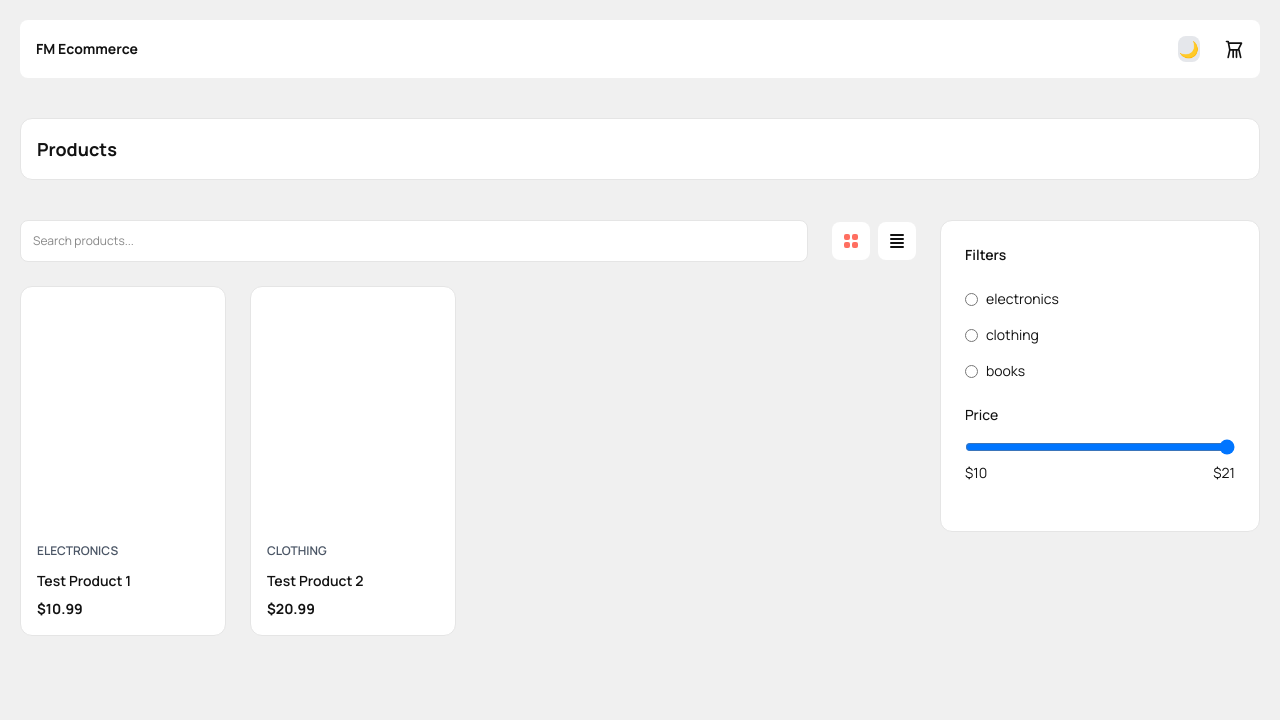
it: Products › filters products by search term
Expected: the heading "Test Product 1" is shown, [37,571,131,590]
In the field with placeholder "Search products...": (414,241) [20,220,808,262], type "Product 1"
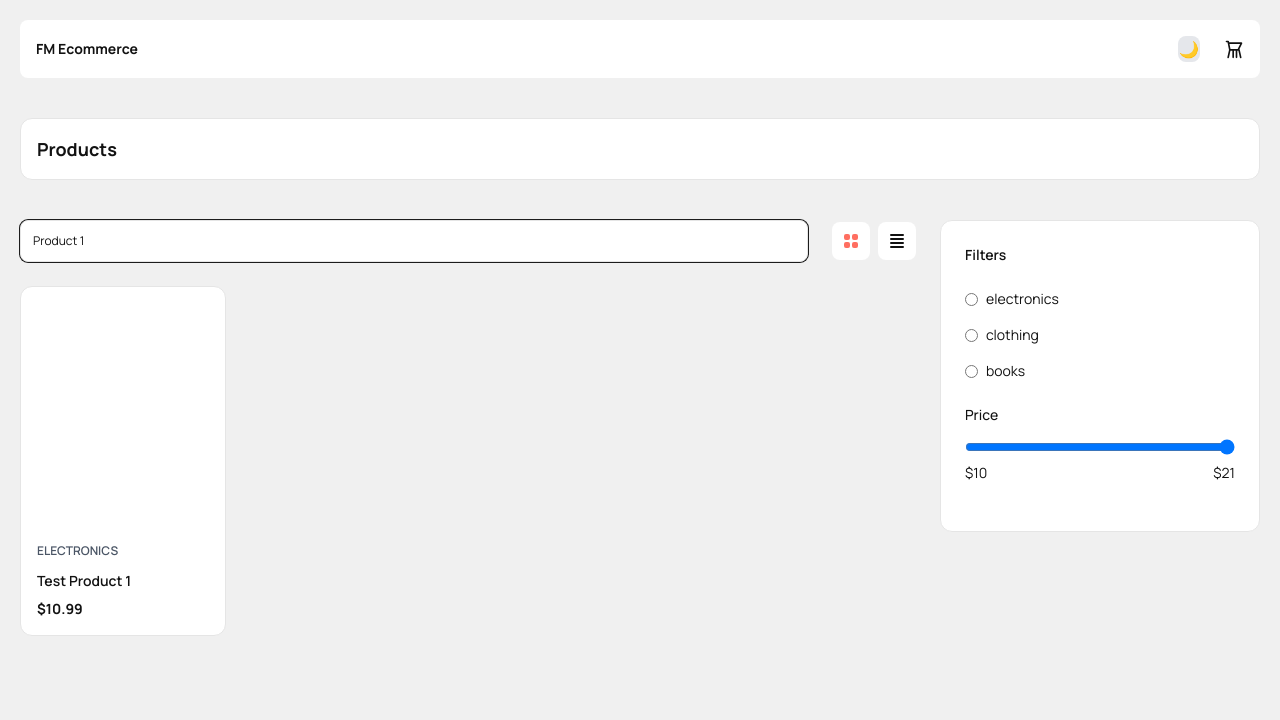
Expected: the heading "Test Product 1" is shown, [37,571,131,590]
Expected: the link "Test Product 2" is gone
